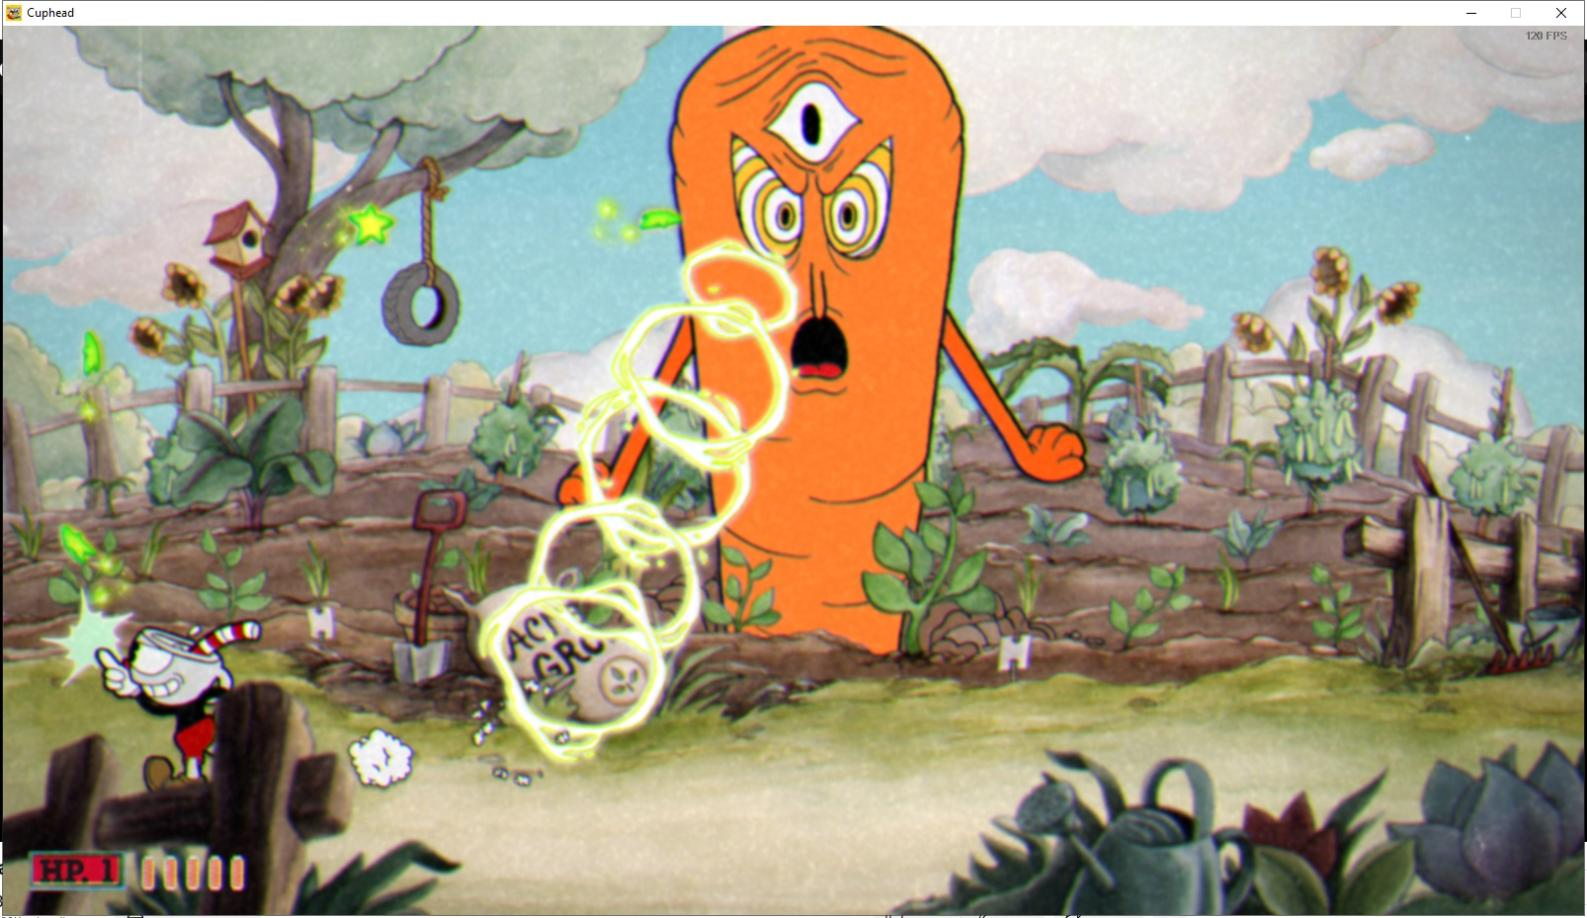cuphead: (86, 600, 282, 807)
hp1: (92, 848, 128, 894)
ring: (479, 575, 672, 765), (570, 376, 757, 561), (615, 294, 795, 475), (525, 495, 707, 663), (666, 226, 808, 349)
